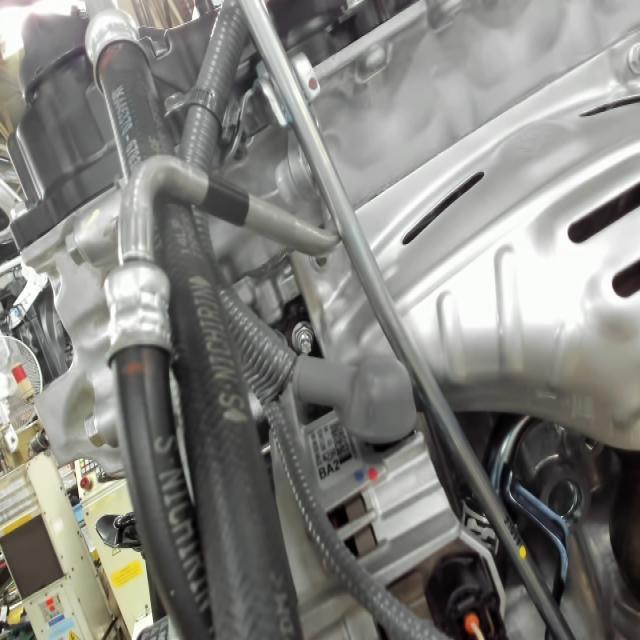Alternator-BA2: (315, 451, 349, 486)
Hose Discharge-HT: (197, 168, 257, 231)
